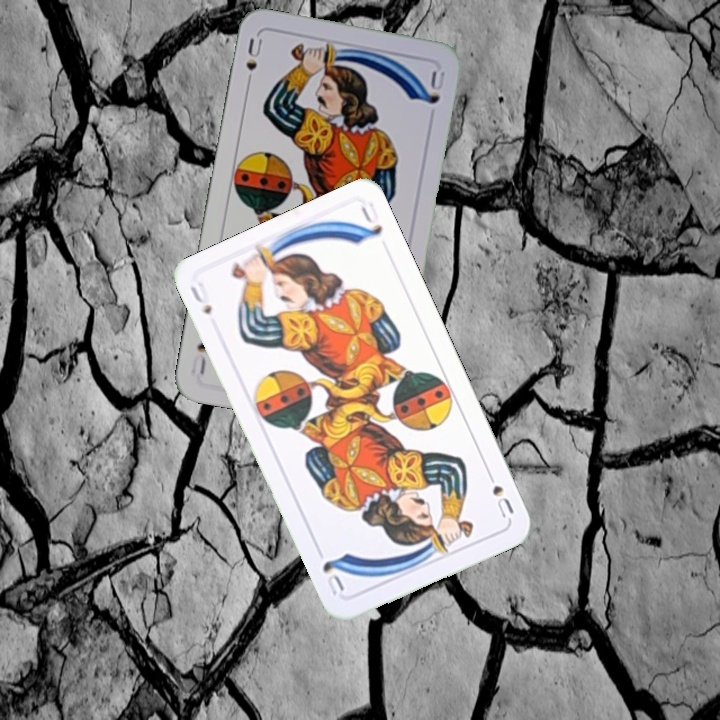SU: (482, 465, 517, 521), (242, 34, 265, 91), (186, 278, 215, 318)
